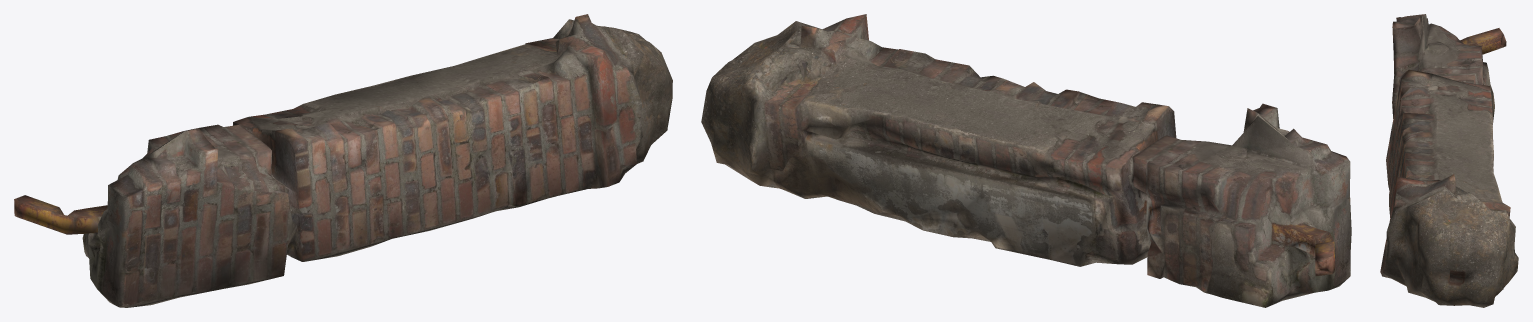
Rendered from PX_Brick_Ruins_21_LOD4.fbx.
3 views of the same model, side by side, from view 1: azimuth 30°, elevation 25°; view 2: azimuth 150°, elevation 25°; view 3: azimuth 270°, elevation 25° (orthographic). The views are drawn at different scales.
Parts seen in each view (by area): view 1: PX_Brick_Ruins_21_LOD4; view 2: PX_Brick_Ruins_21_LOD4; view 3: PX_Brick_Ruins_21_LOD4.
Part boxes in pixels (<box>): PX_Brick_Ruins_21_LOD4: <box>14,14,672,307</box>; PX_Brick_Ruins_21_LOD4: <box>701,14,1351,307</box>; PX_Brick_Ruins_21_LOD4: <box>1380,14,1518,307</box>.
Bounding box in the file's own units: 259 × 62.39 × 63.85.
